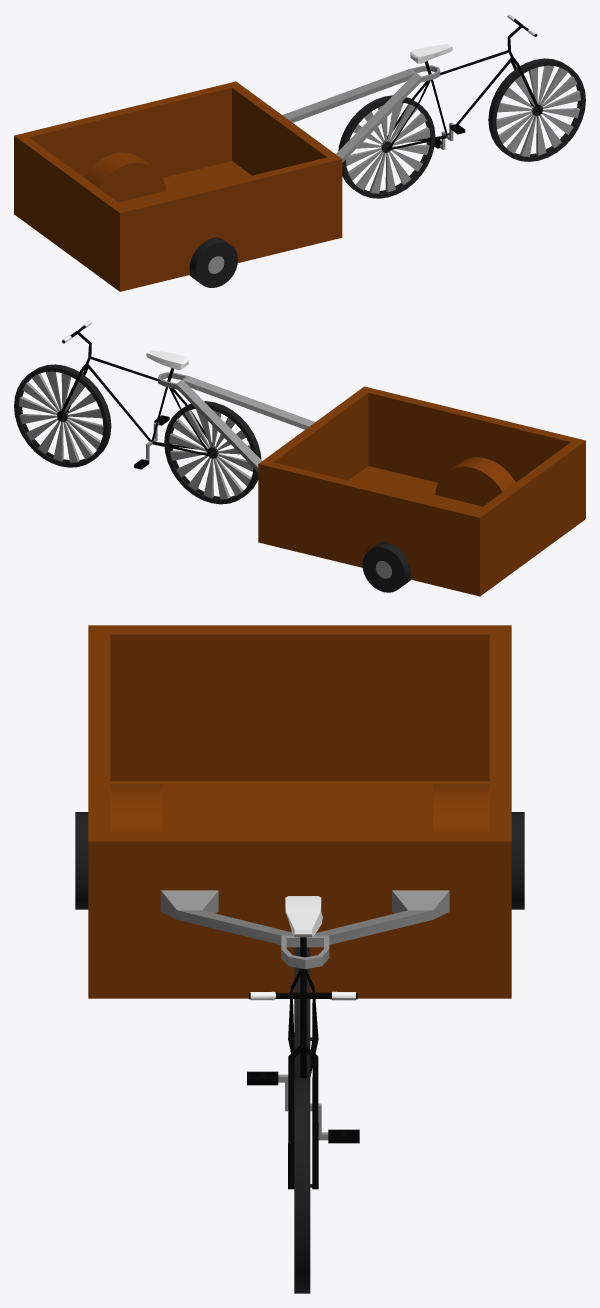
The model's file is bike3_2.fbx.
3 renders of one model, top to bottom at view 1: azimuth 30°, elevation 25°; view 2: azimuth 150°, elevation 25°; view 3: azimuth 270°, elevation 25°, orthographic. The views are drawn at different scales.
Parts seen in each view (by area): view 1: bike3, bike3_3, bike3_5, bike3_2; view 2: bike3, bike3_3, bike3_5, bike3_2, bike3_4; view 3: bike3, bike3_2, bike3_3, bike3_4, bike3_5.
Boxes of the visible parts, x1=… form: bike3: x1=14, y1=65, x2=440, y2=291; bike3_3: x1=488, y1=58, x2=585, y2=161; bike3_5: x1=338, y1=95, x2=435, y2=198; bike3_2: x1=384, y1=14, x2=541, y2=150; bike3: x1=158, y1=372, x2=585, y2=596; bike3_3: x1=14, y1=364, x2=111, y2=467; bike3_5: x1=164, y1=401, x2=261, y2=504; bike3_2: x1=57, y1=320, x2=214, y2=456; bike3_4: x1=134, y1=415, x2=169, y2=469; bike3: x1=75, y1=625, x2=524, y2=998; bike3_2: x1=249, y1=896, x2=357, y2=1189; bike3_3: x1=294, y1=1078, x2=312, y2=1293; bike3_4: x1=247, y1=1071, x2=359, y2=1143; bike3_5: x1=289, y1=947, x2=314, y2=1077.
Bounding box in the file's own units: 782 × 201 × 295.
